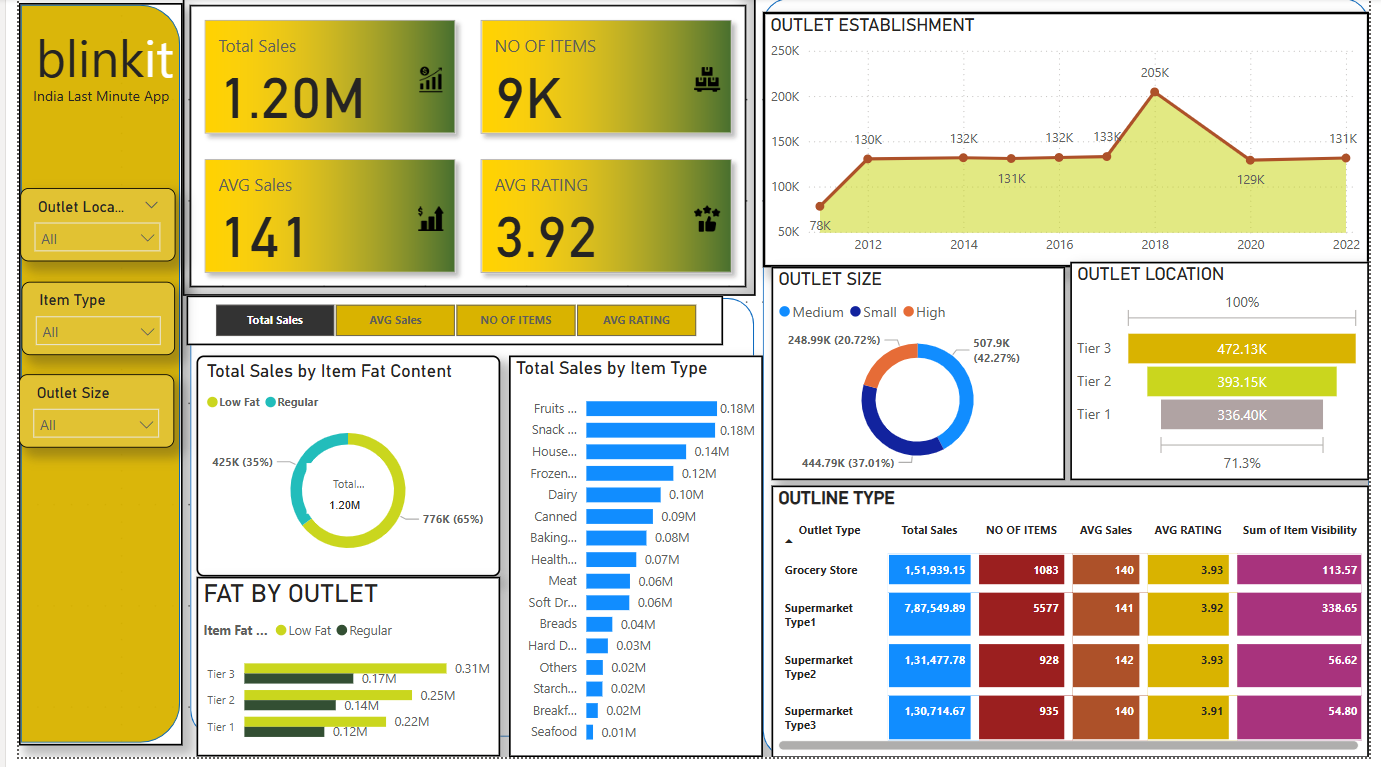

Layout of this report page (visuals, bound fields, positions):
{"tool":"powerbi","page":{"name":"Page 1","canvas":[1280,720],"ordinal":0},"visuals":[{"type":"shape","box":[0,4.7,155.3,704],"z":0},{"type":"textbox","box":[0,17.5,162.5,82.5],"z":1000},{"type":"textbox","box":[8.3,78.2,150.5,27.3],"z":2000},{"type":"cardVisual","fields":{"Data":["BlinkIT Grocery Data.Total Sales","BlinkIT Grocery Data.NO OF ITEMS","BlinkIT Grocery Data.AVG Sales","BlinkIT Grocery Data.AVG RATING"]},"box":[155.3,0,542.8,282.1],"z":3000},{"type":"shape","box":[162.5,285,535,416.2],"z":4000},{"type":"slicer","fields":{"Values":["Parameter.Parameter"]},"box":[158.8,282.1,508.4,47.4],"z":5000},{"type":"donutChart","fields":{"Y":["BlinkIT Grocery Data.Total Sales"],"Category":["BlinkIT Grocery Data.Item Fat Content"]},"box":[168.3,339,288,209.8],"z":6000},{"type":"cardVisual","fields":{"Data":["BlinkIT Grocery Data.Total Sales"]},"box":[267.9,436.1,83,58.1],"z":7000},{"type":"clusteredBarChart","title":"FAT BY OUTLET","fields":{"Y":["BlinkIT Grocery Data.Total Sales"],"Category":["BlinkIT Grocery Data.Outlet Location Type"],"Series":["BlinkIT Grocery Data.Item Fat Content"]},"box":[168.3,548.7,288,170.7],"z":8000},{"type":"shape","box":[520,340,256.2,368.8],"z":9000},{"type":"clusteredBarChart","fields":{"Y":["BlinkIT Grocery Data.Total Sales"],"Category":["BlinkIT Grocery Data.Item Type"]},"box":[464.6,339,240.6,380.4],"z":10000},{"type":"shape","box":[705,0,575,720],"z":11000},{"type":"lineChart","title":"OUTLET ESTABLISHMENT","fields":{"Category":["BlinkIT Grocery Data.Outlet Establishment Year"],"Y":["BlinkIT Grocery Data.Total Sales"]},"box":[705,12.5,575,242.5],"z":12000},{"type":"donutChart","title":"OUTLET SIZE","fields":{"Category":["BlinkIT Grocery Data.Outlet Size"],"Y":["BlinkIT Grocery Data.Total Sales"]},"box":[713.5,254.8,278.5,202.7],"z":13000},{"type":"funnel","title":"OUTLET LOCATION","fields":{"Y":["Sum(BlinkIT Grocery Data.Sales)"],"Category":["BlinkIT Grocery Data.Outlet Location Type"]},"box":[996.7,250.1,283.3,207.4],"z":14000},{"type":"pivotTable","title":"OUTLINE TYPE","fields":{"Rows":["BlinkIT Grocery Data.Outlet Type"],"Values":["BlinkIT Grocery Data.Total Sales","BlinkIT Grocery Data.NO OF ITEMS","BlinkIT Grocery Data.AVG Sales","BlinkIT Grocery Data.AVG RATING","Sum(BlinkIT Grocery Data.Item Visibility)"]},"box":[713.5,462.2,566.5,258.4],"z":15000},{"type":"slicer","fields":{"Values":["BlinkIT Grocery Data.Outlet Location Type"]},"box":[1.2,180.1,147,69.9],"z":17000},{"type":"slicer","fields":{"Values":["BlinkIT Grocery Data.Outlet Size"]},"box":[0,356.7,147,69.9],"z":18000},{"type":"slicer","fields":{"Values":["BlinkIT Grocery Data.Item Type"]},"box":[2.4,269,145.8,69.9],"z":19000}]}

Visuals, with their boxes in screenshot pixels (x1, y1, x2, y2), scaled from the page's 1280x720 canvas onto the 1381x767 screenshot:
shape: [0,5,168,755]
textbox: [0,19,175,107]
textbox: [9,83,171,112]
cardVisual - BlinkIT Grocery Data.Total Sales x BlinkIT Grocery Data.NO OF ITEMS: [168,0,753,301]
shape: [175,304,753,747]
slicer - Parameter.Parameter: [171,301,720,351]
donutChart - BlinkIT Grocery Data.Total Sales x BlinkIT Grocery Data.Item Fat Content: [182,361,492,585]
cardVisual - BlinkIT Grocery Data.Total Sales: [289,465,379,526]
"FAT BY OUTLET" clusteredBarChart: [182,585,492,766]
shape: [561,362,837,755]
clusteredBarChart - BlinkIT Grocery Data.Total Sales x BlinkIT Grocery Data.Item Type: [501,361,761,766]
shape: [761,0,1380,766]
"OUTLET ESTABLISHMENT" lineChart: [761,13,1380,272]
"OUTLET SIZE" donutChart: [770,271,1070,487]
"OUTLET LOCATION" funnel: [1075,266,1380,487]
"OUTLINE TYPE" pivotTable: [770,492,1380,766]
slicer - BlinkIT Grocery Data.Outlet Location Type: [1,192,160,266]
slicer - BlinkIT Grocery Data.Outlet Size: [0,380,159,454]
slicer - BlinkIT Grocery Data.Item Type: [3,287,160,361]
